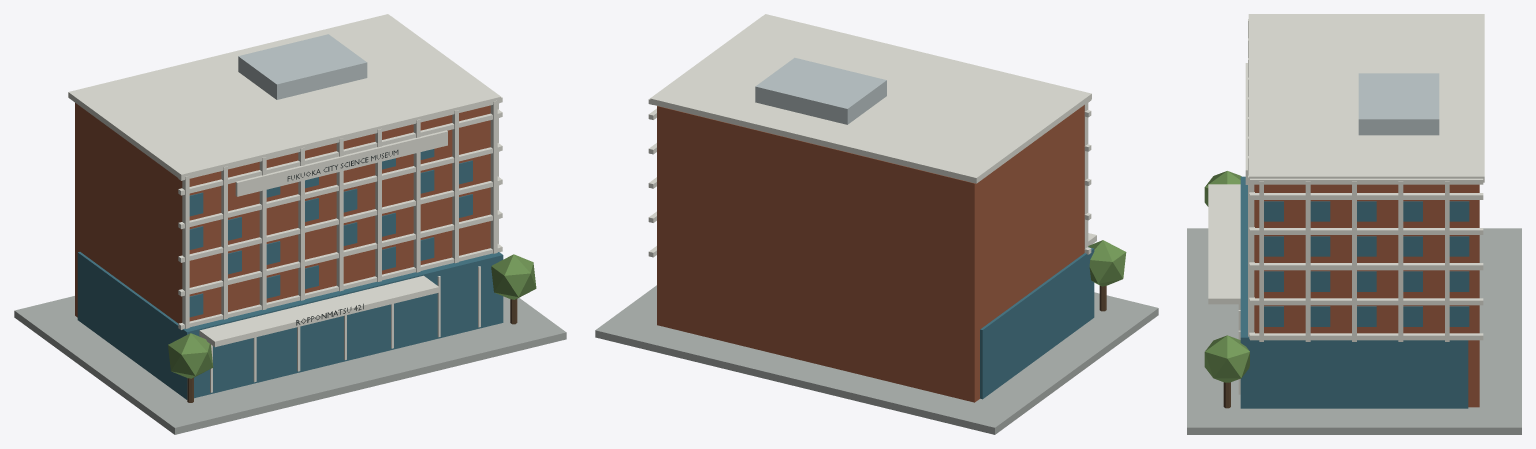
The picture shows the model from 3 angles, left to right: view 1: azimuth 30°, elevation 25°; view 2: azimuth 150°, elevation 25°; view 3: azimuth 270°, elevation 25°; orthographic projection. The views are drawn at different scales.
Parts seen in each view (by area): view 1: fukuoka-city-science-museum; view 2: fukuoka-city-science-museum; view 3: fukuoka-city-science-museum.
Part boxes in pixels (x1,y1,x2,y2): fukuoka-city-science-museum: [14, 14, 566, 434]; fukuoka-city-science-museum: [595, 14, 1158, 434]; fukuoka-city-science-museum: [1187, 14, 1521, 434].
Bounding box in the file's own units: 11.7 × 7.01 × 8.3.
